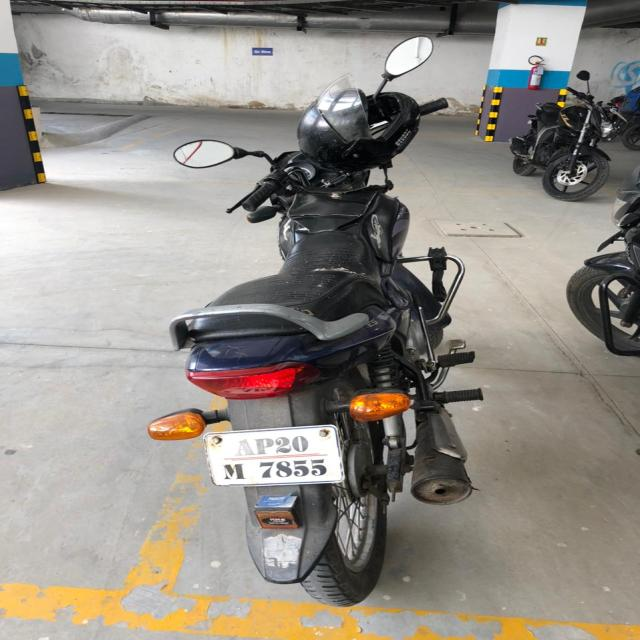number plate: (202, 424, 346, 486)
